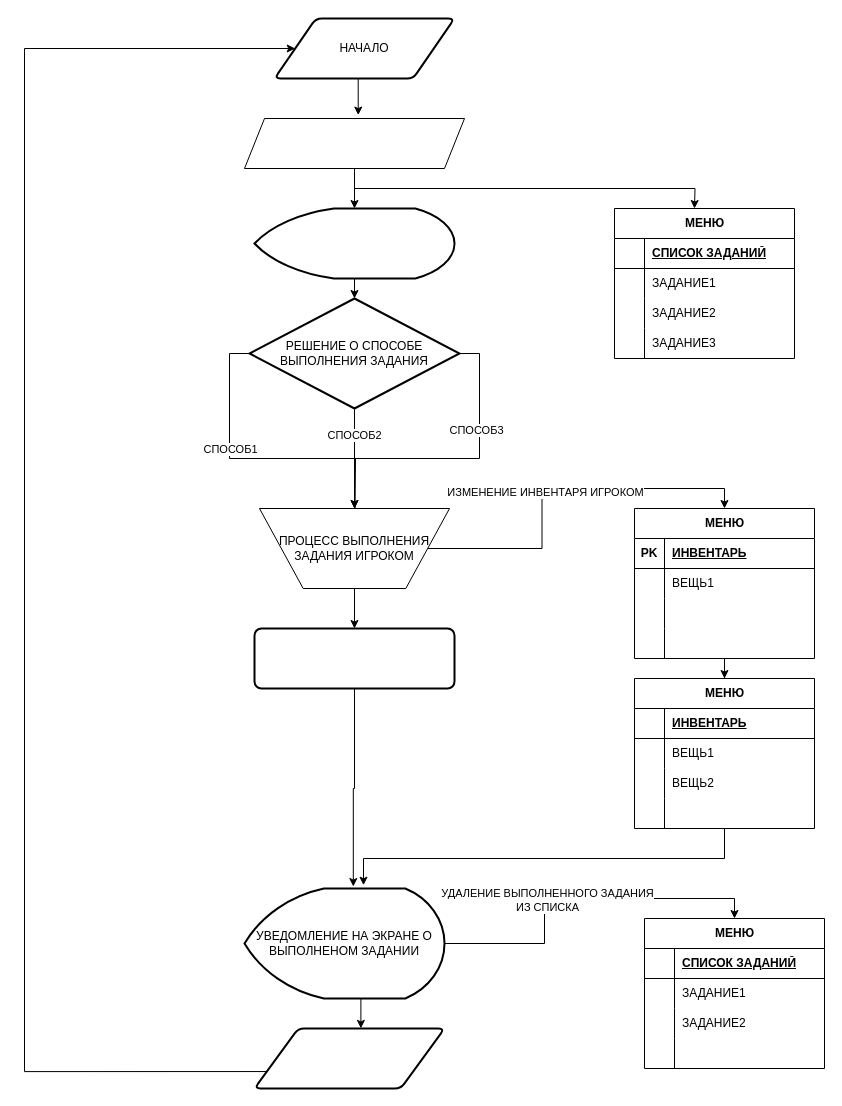
Some shapes in this 842 by 1106 pixel diagram are drawn without their labels. The box of each missing label's shape, as (x1, y1, x2, y2) in pixels:
ЗАДАНИЕ ОТОБРАЖАЕТСЯ НА ЭКРАНЕ ИГРОКА: (253, 207, 455, 279)
КОНЕЦ: (253, 1027, 445, 1089)
ПРОЦЕСС ЗАСЧИТЫВАНИЯ ВЫПОЛНЕНИЯ ЗАДАНИЯ: (253, 627, 455, 689)
ЭКСПОЗИЦИЯ СЮЖЕТА ЧЕРЕЗ РАЗГОВОР ПЕРСОНАЖЕЙ: (244, 118, 464, 168)
